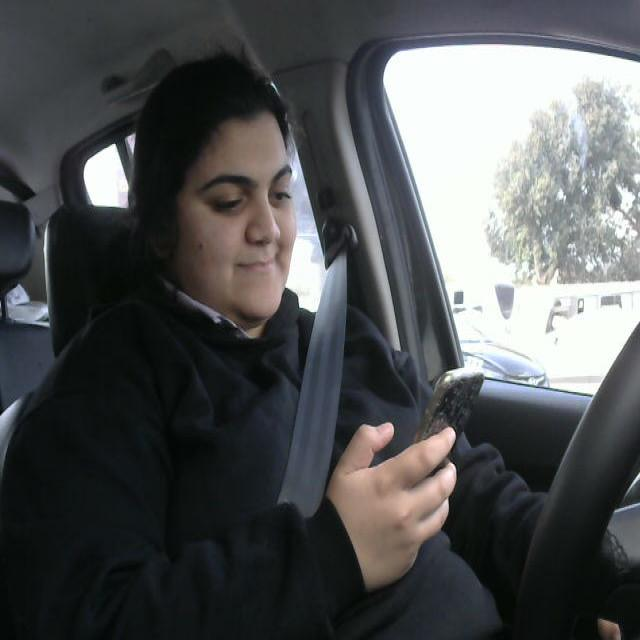mobile use: (426, 361, 489, 456)
